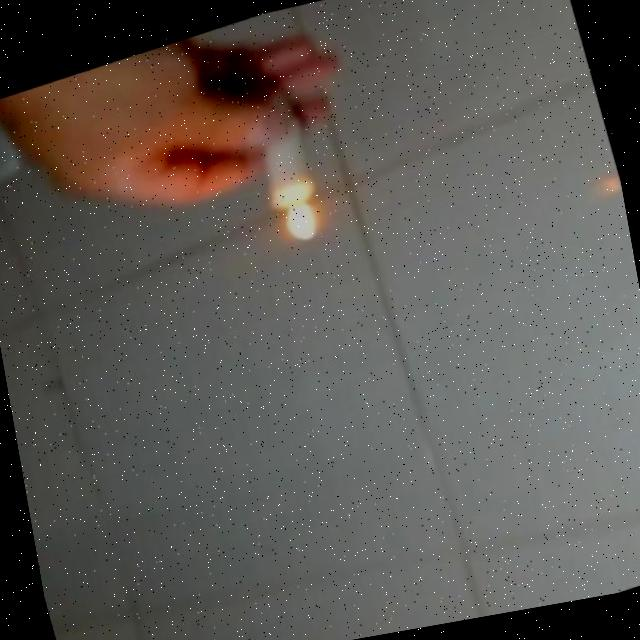fire: (276, 187, 332, 243)
